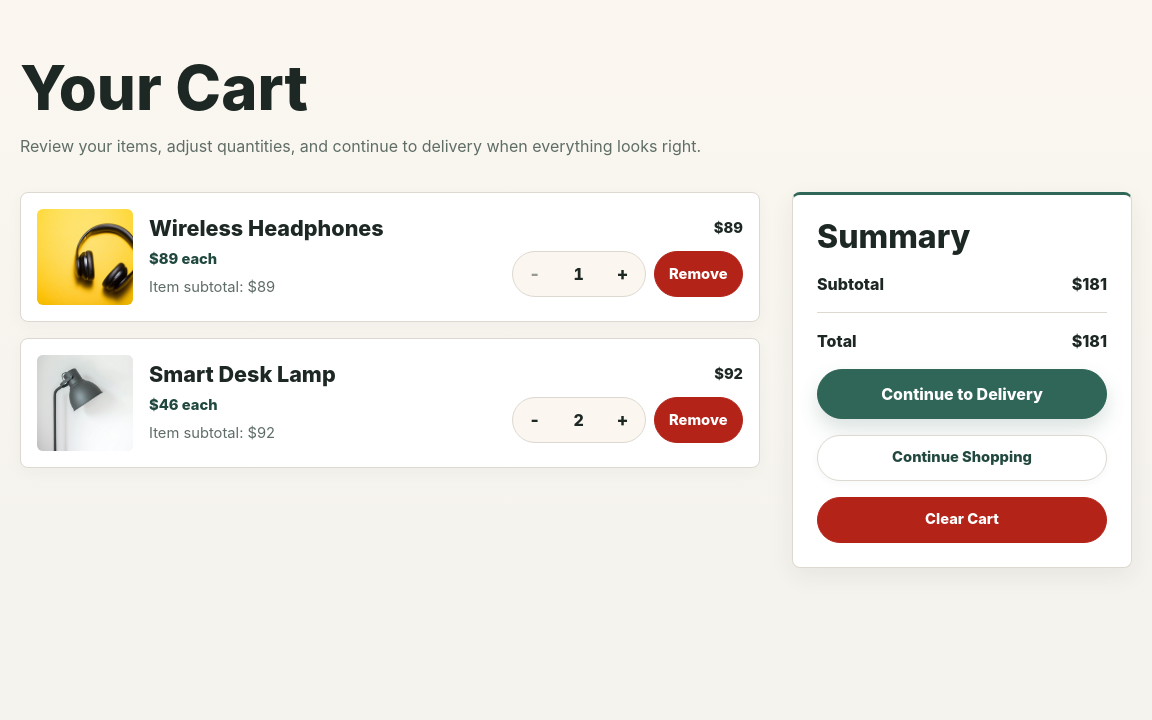
CartPageContent › clears all cart items
Expected: the 1st text "$181" is shown, [1072,272,1107,296]
What coordinates should you click on to do the following:
click the button "Clear Cart"
I would click on:
 (962, 520)
Its box is [817,497,1107,543].
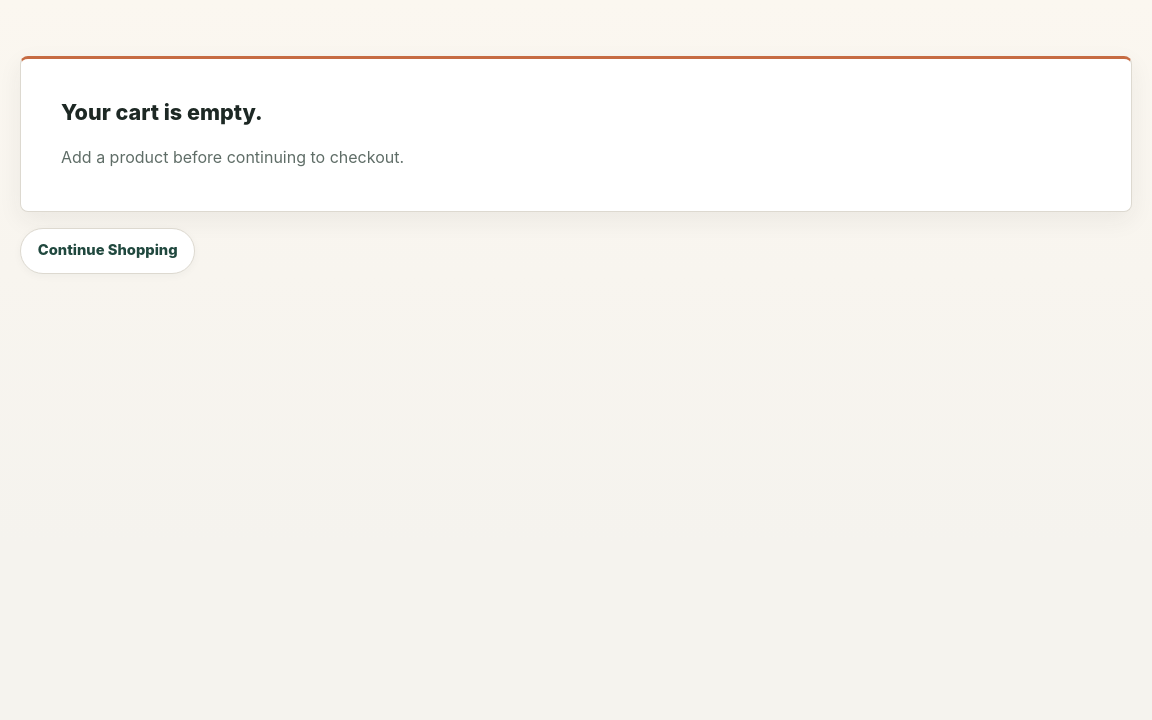
Expected: the heading "Your cart is empty." is shown, [61,99,263,127]
